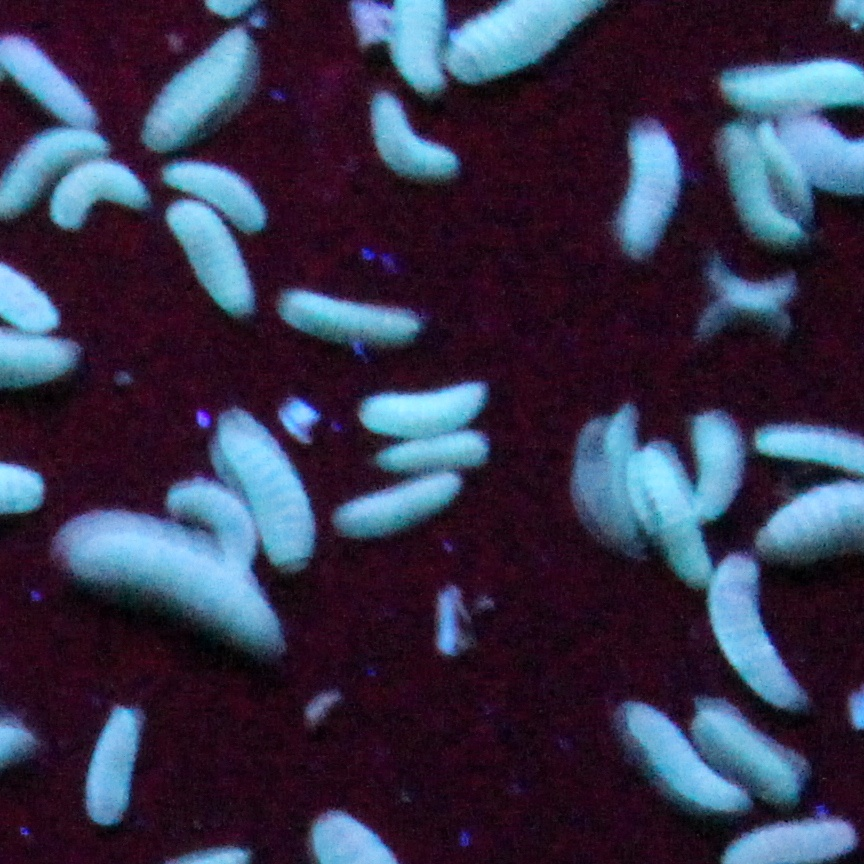larve: (42, 520, 294, 668), (210, 424, 314, 564), (710, 551, 795, 710), (630, 720, 758, 820), (462, 4, 610, 84), (690, 692, 794, 804), (162, 24, 258, 132), (278, 284, 430, 348), (574, 424, 646, 556), (646, 444, 714, 580), (158, 212, 238, 324), (331, 484, 466, 548), (622, 132, 678, 268), (186, 488, 270, 568), (378, 108, 474, 176), (46, 172, 142, 232), (90, 712, 134, 840), (370, 388, 498, 428), (182, 164, 282, 212), (398, 444, 490, 480), (402, 1, 442, 80), (702, 424, 722, 544)
